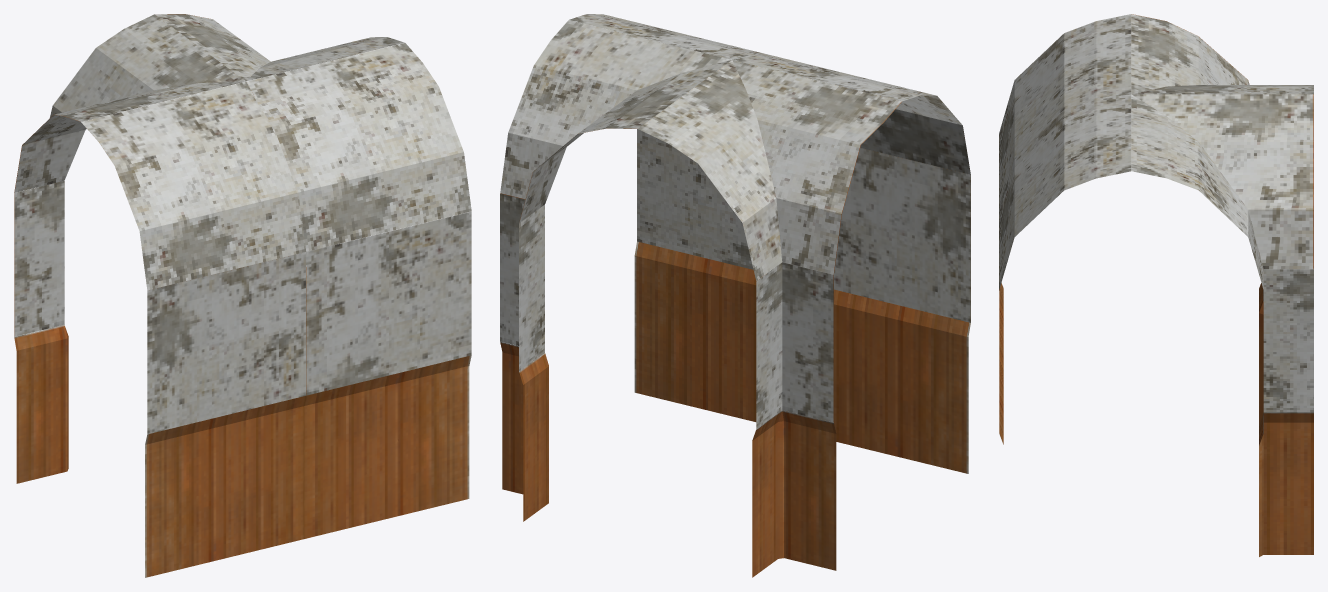
Rendered from twayHallwayPiece.fbx.
The picture shows the model from 3 angles, left to right: view 1: azimuth 30°, elevation 25°; view 2: azimuth 150°, elevation 25°; view 3: azimuth 270°, elevation 25°; orthographic projection. The views are drawn at different scales.
Parts seen in each view (by area): view 1: TWaySection; view 2: TWaySection; view 3: TWaySection.
Part boxes in pixels (x1,y1,x2,y2): TWaySection: (14, 14, 471, 577); TWaySection: (500, 14, 970, 577); TWaySection: (999, 14, 1313, 556).
Bounding box in the file's own units: 204 × 246 × 173.
